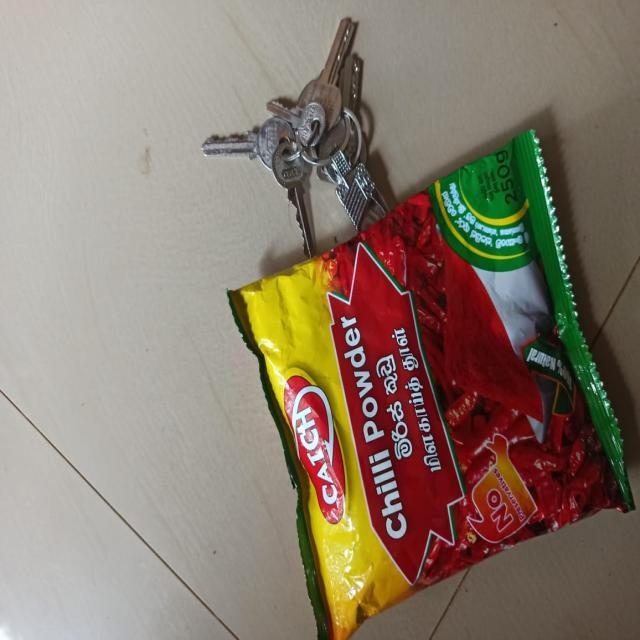Chilli Powder: (195, 135, 640, 640)
